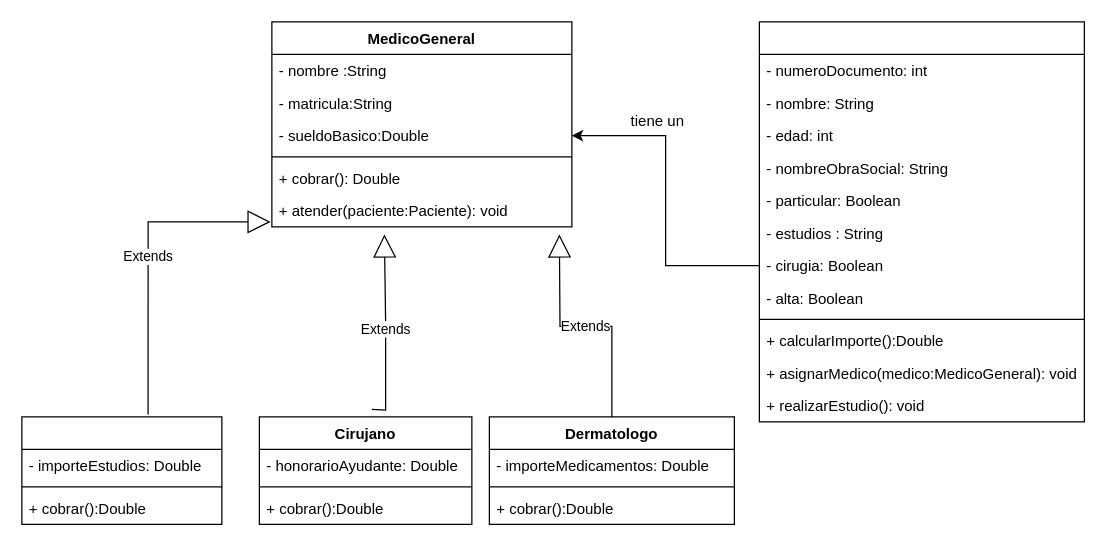
This 1106x550 diagram has some shape labels left out. Here are the shapes that lost their labels. From the top down, the box of each, then its label:
(758, 21, 1084, 422): Paciente
(21, 416, 222, 524): Cardiologo
